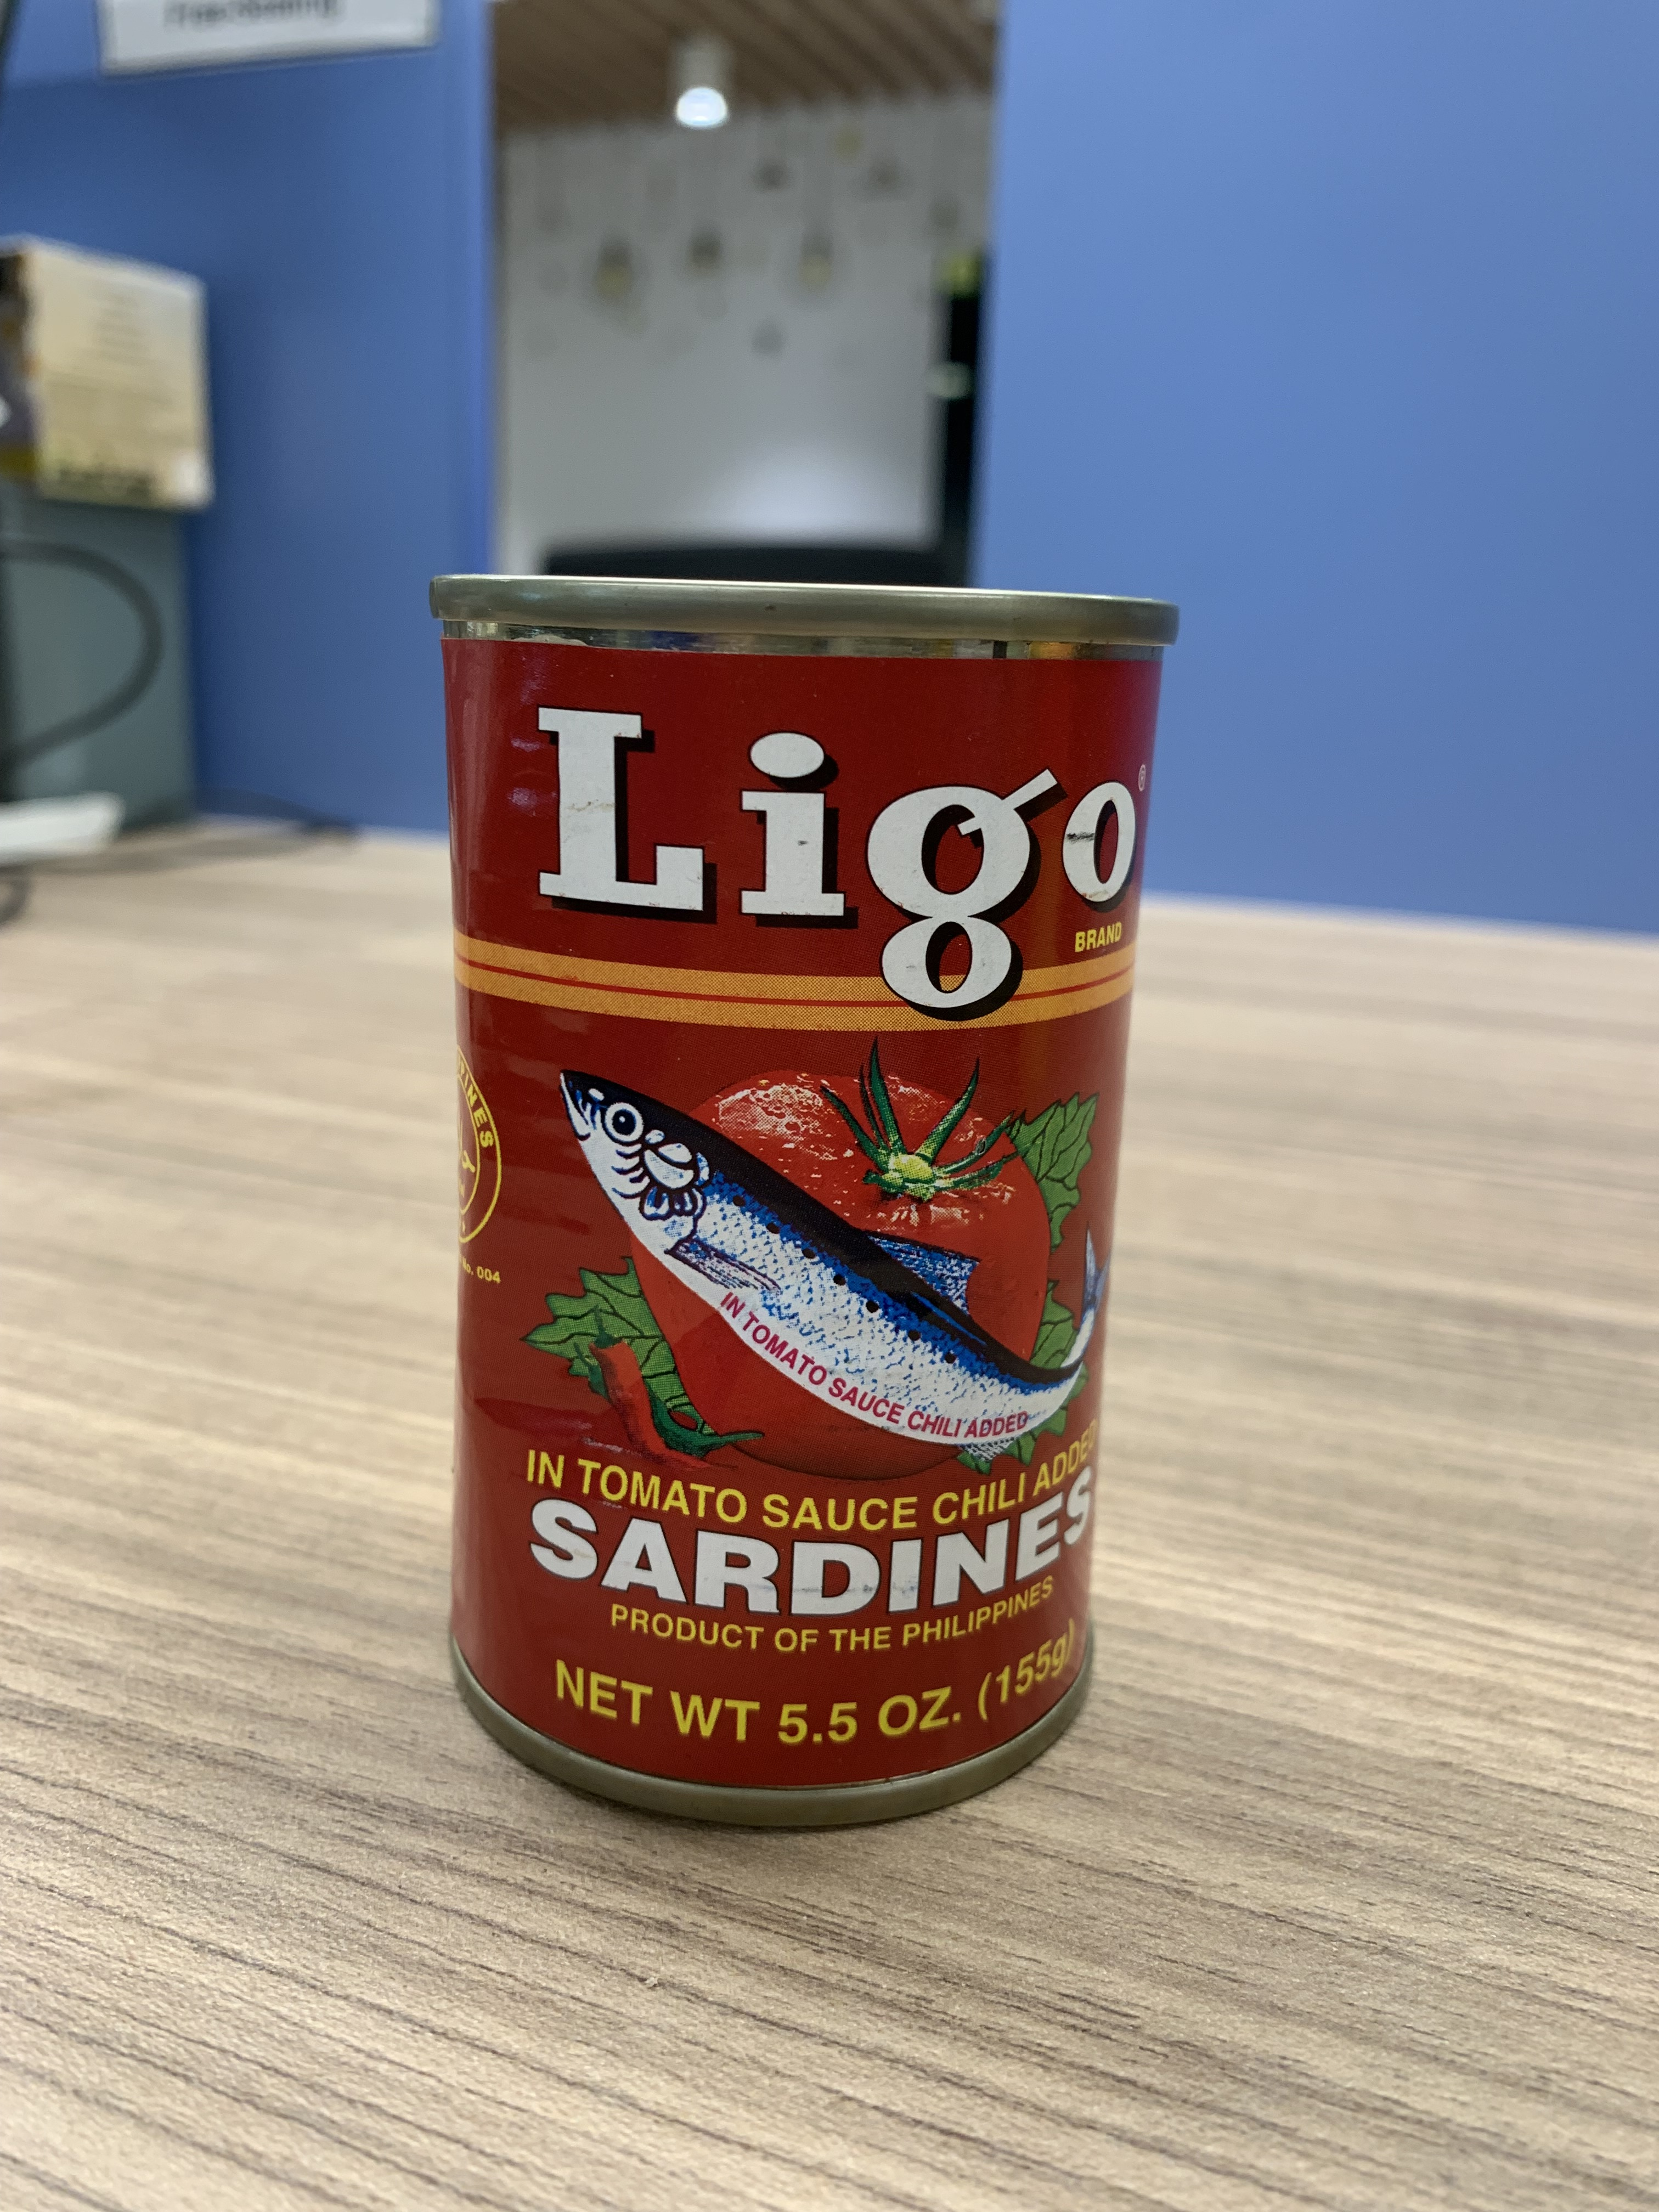sardines: (376, 582, 1195, 1843)
